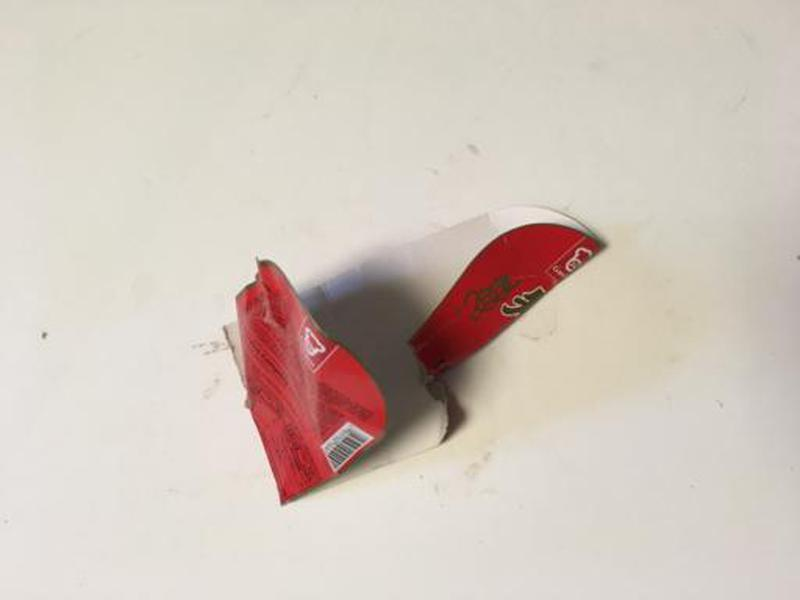paper: (213, 198, 618, 512)
